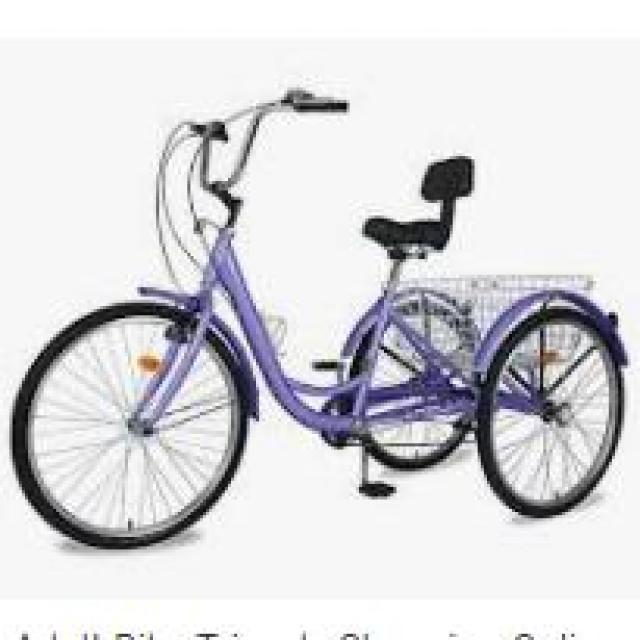bicycle: (11, 101, 623, 532)
